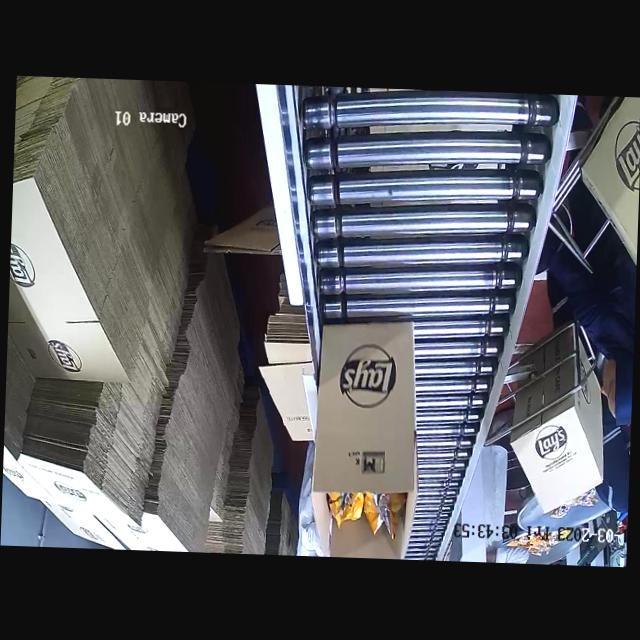cheese: (322, 476, 410, 537)
